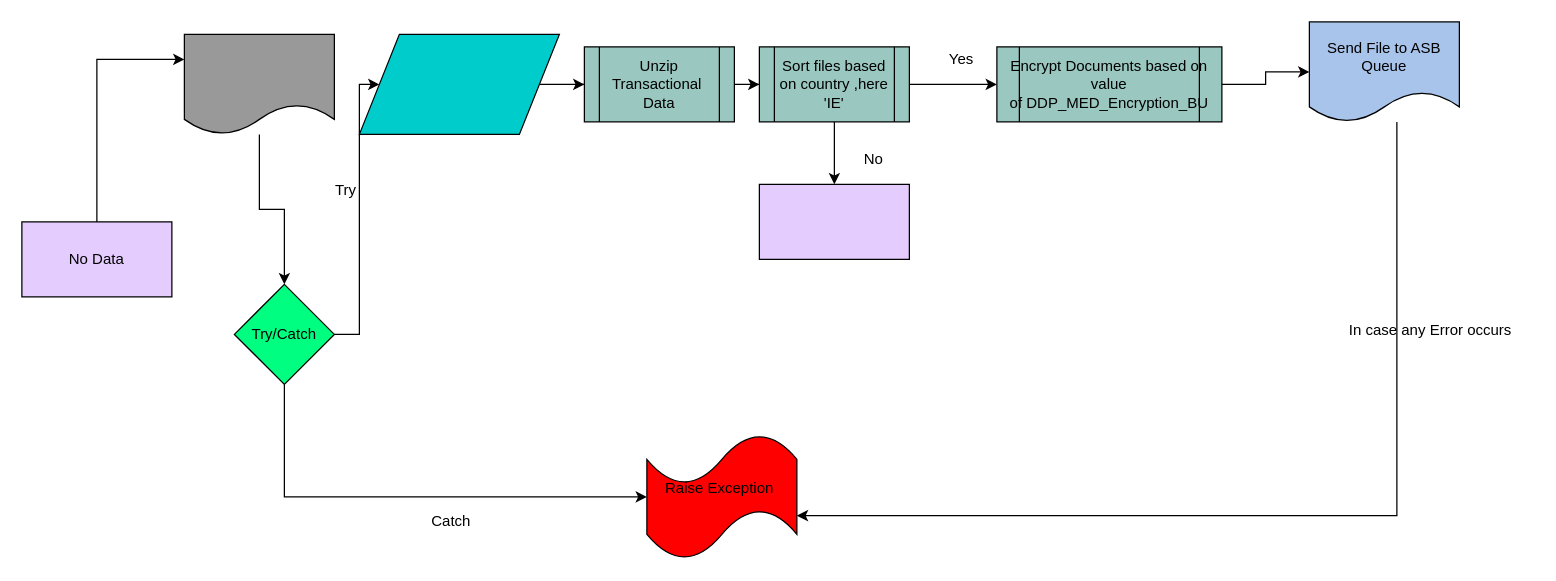
Image size: 1556x581. Some labels were removed from this diagram. The shapes that lost their labels are listed below. From the top down, each one's centre as x and y in pixels, then its label:
pixel 258 83: SubProcess: [MED](sub) SET Context Facade
pixel 458 83: SubProcess : [MED] (sub) Import From Ariba
pixel 833 221: Routed Out
